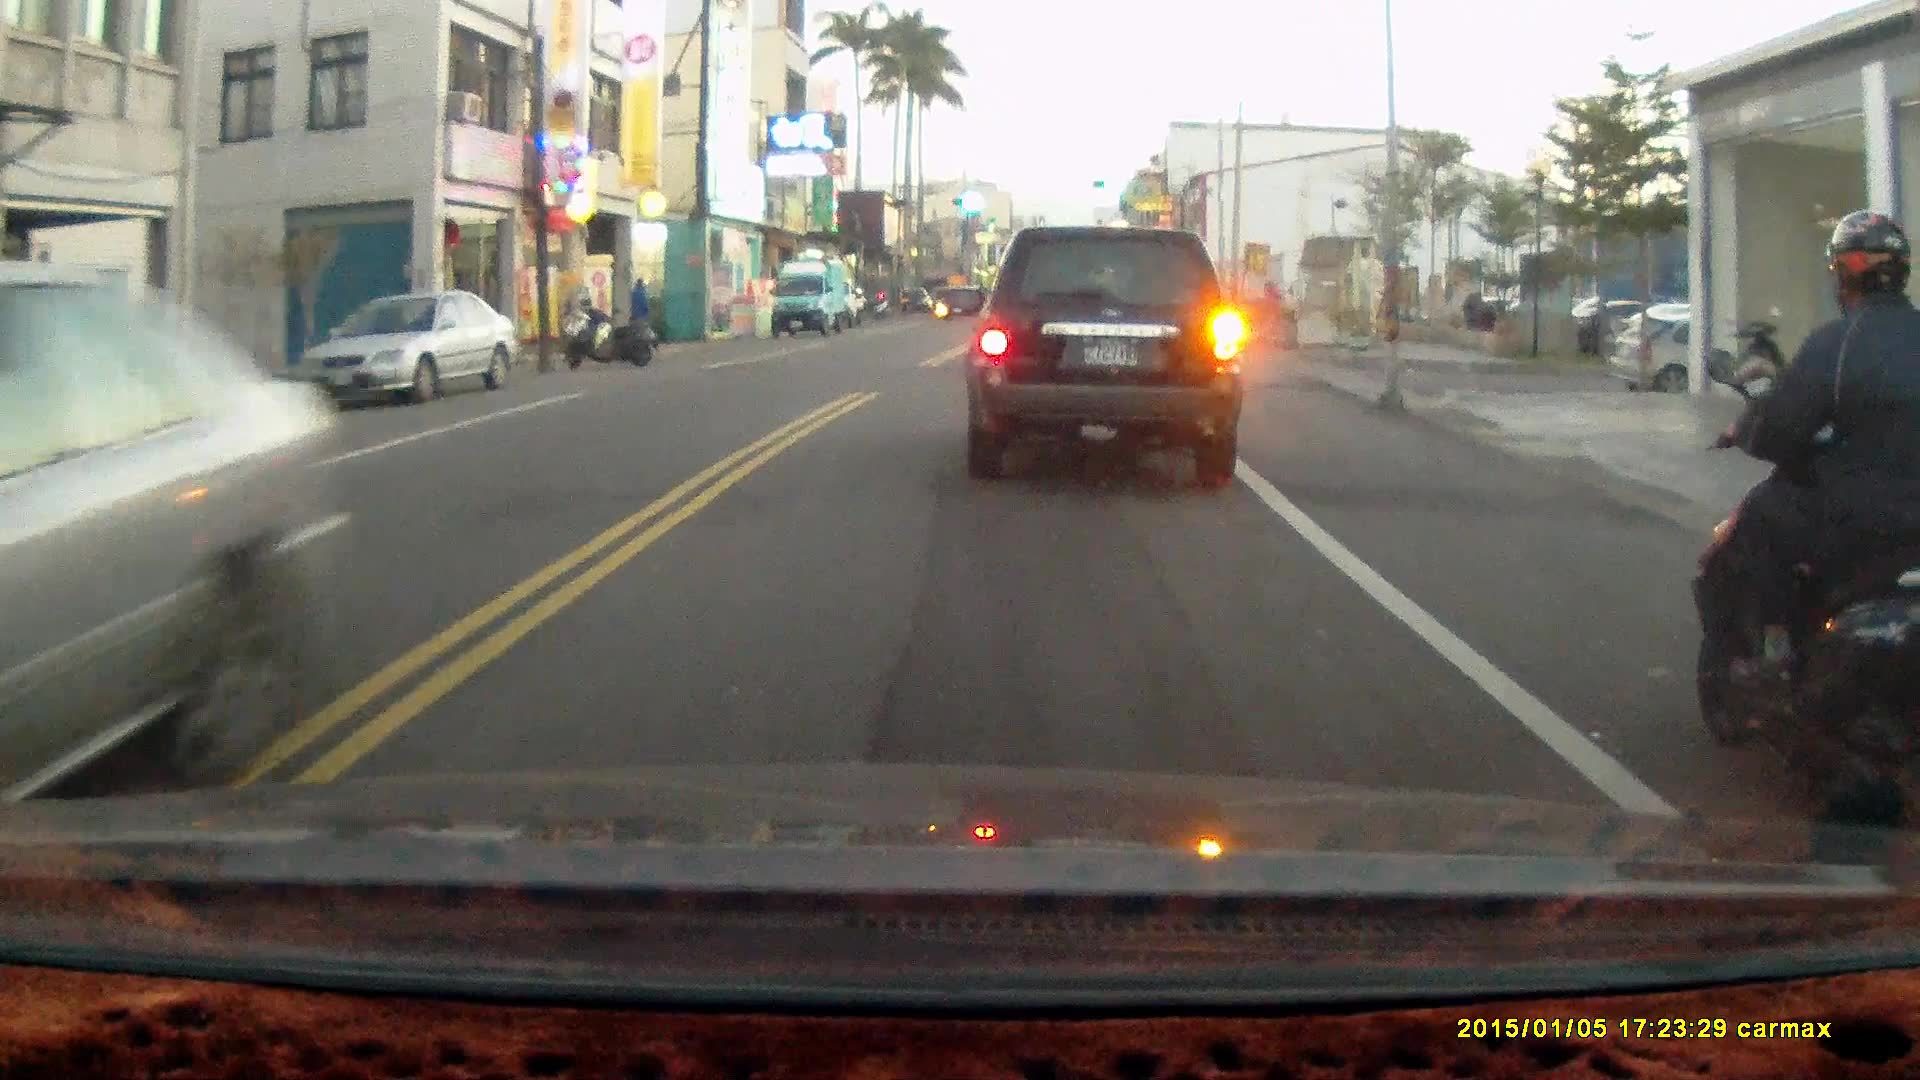pedestrian: (625, 273, 654, 354)
rider: (1680, 206, 1920, 846)
vehicle: (1, 265, 358, 815), (973, 223, 1249, 491), (288, 289, 519, 407), (1613, 317, 1834, 402), (769, 260, 856, 342)
